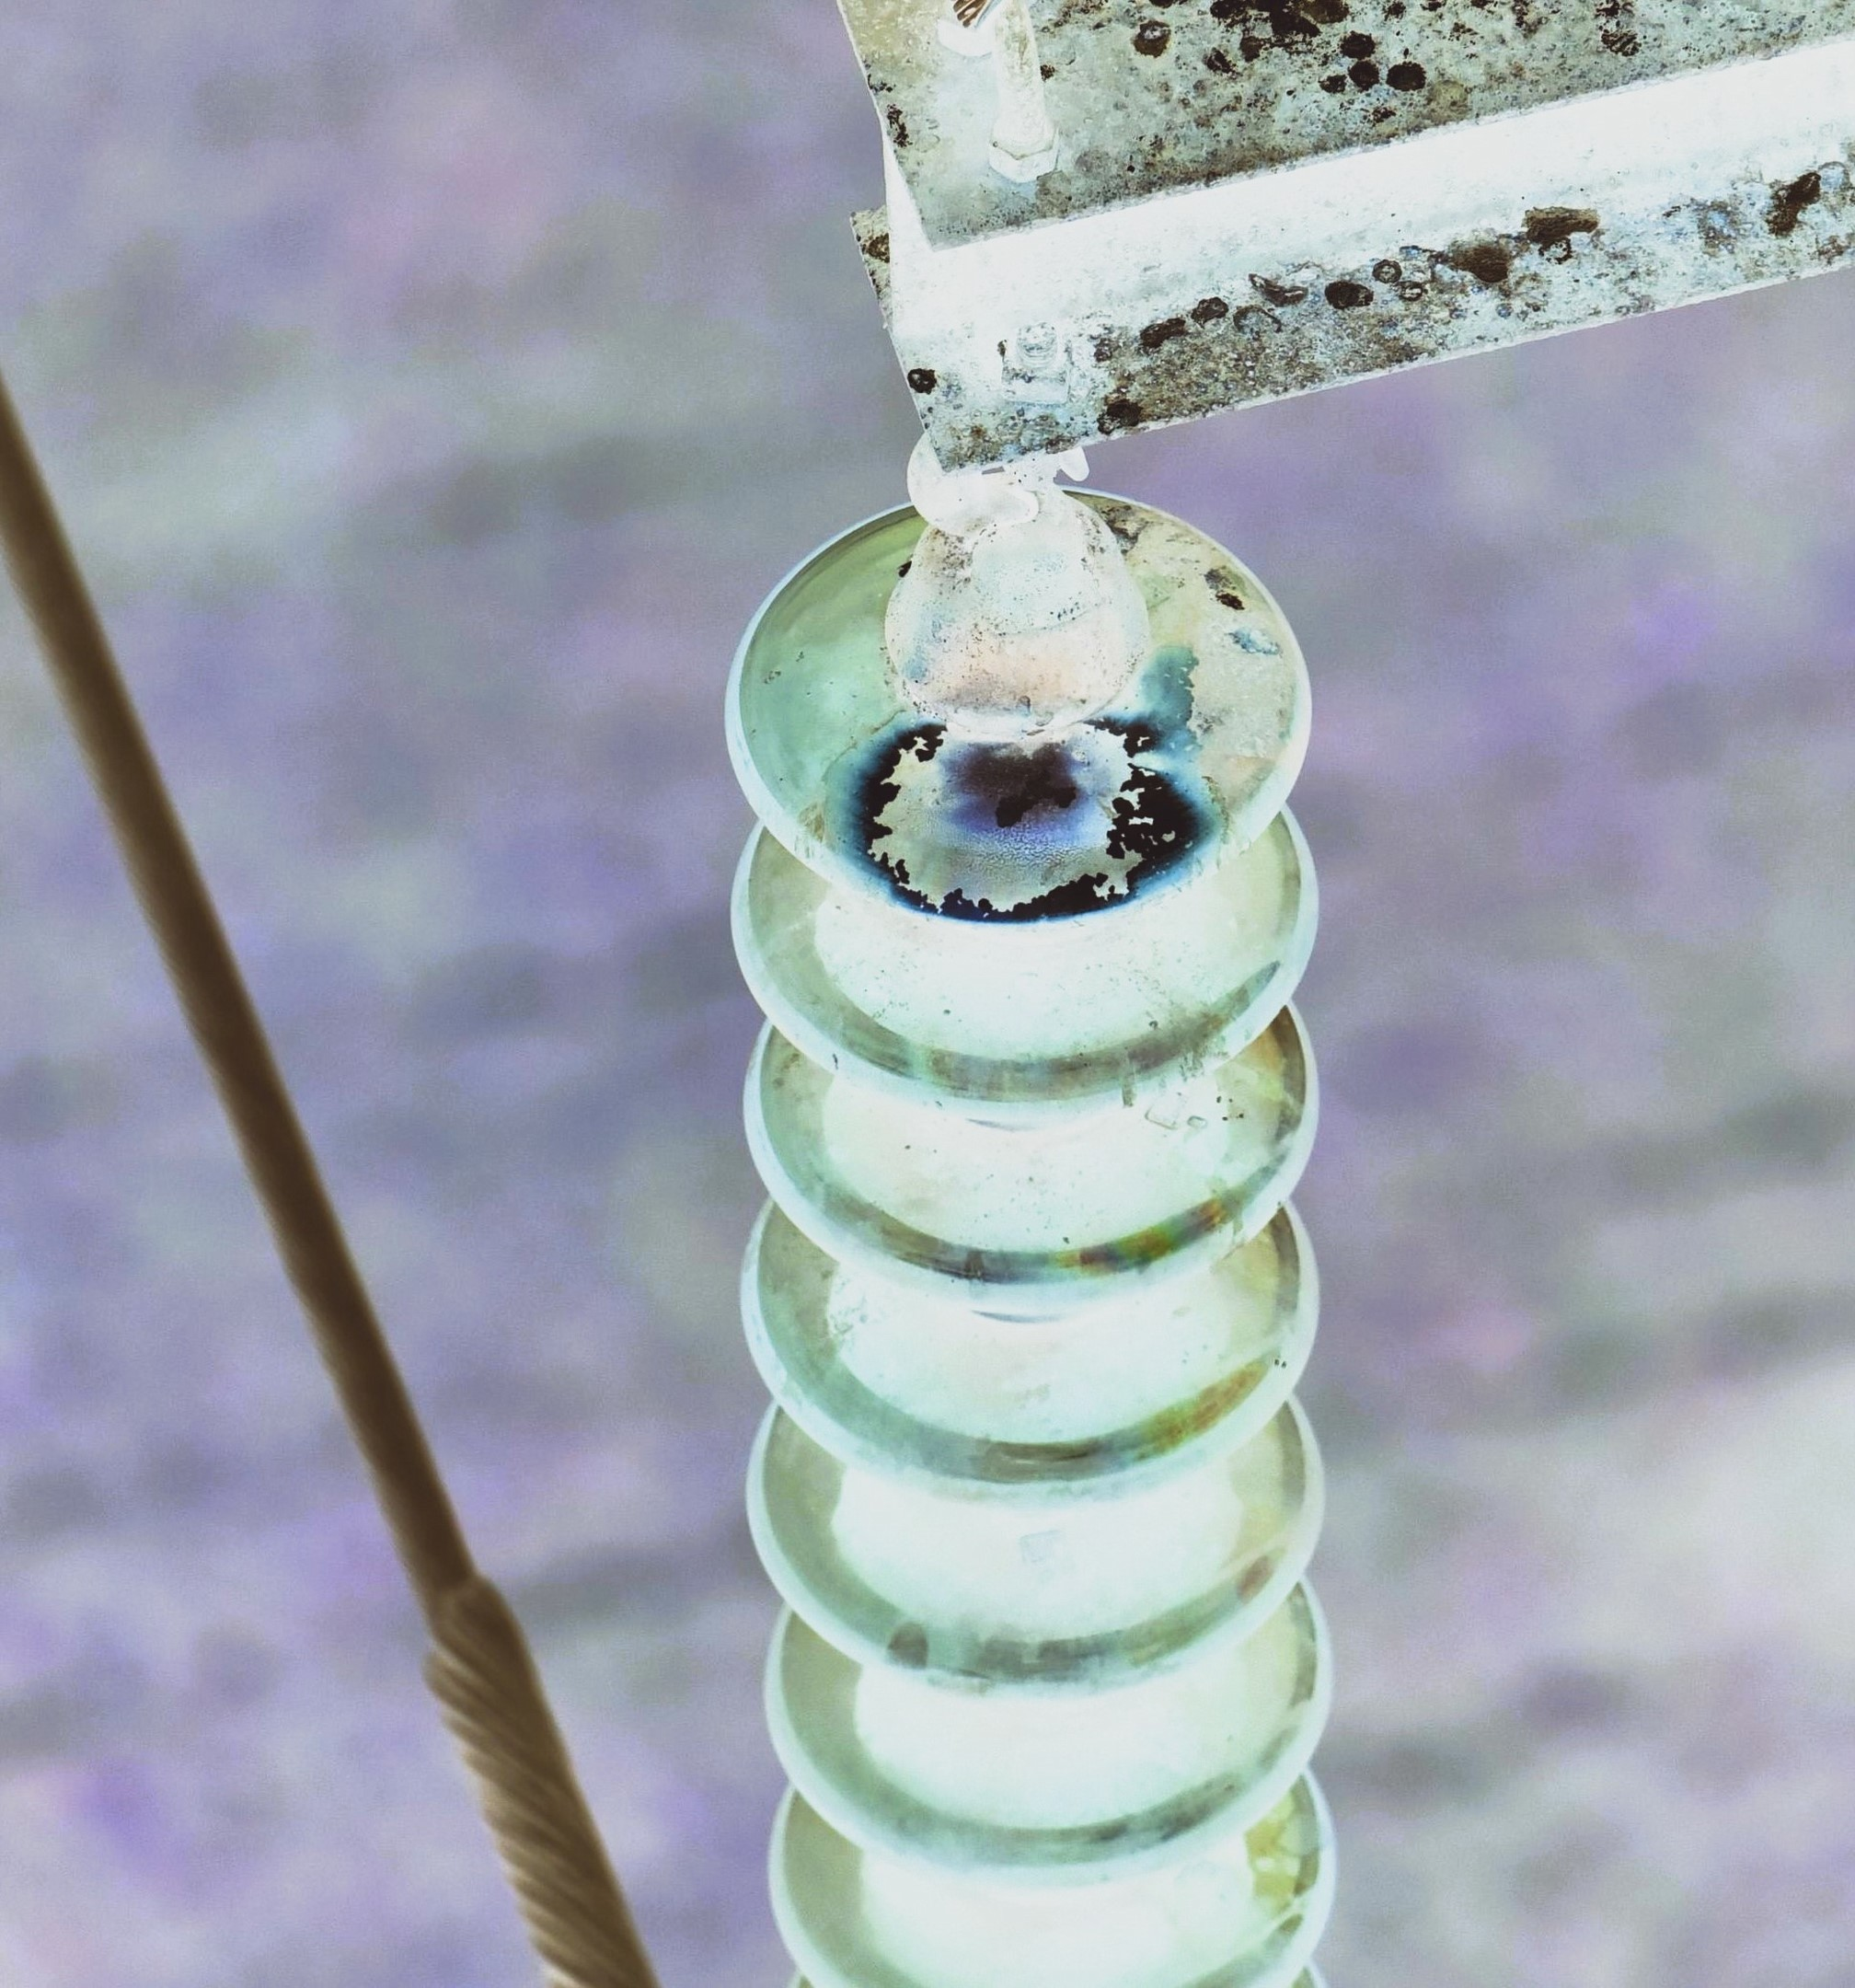Insulator flashover: (701, 473, 1322, 938)
